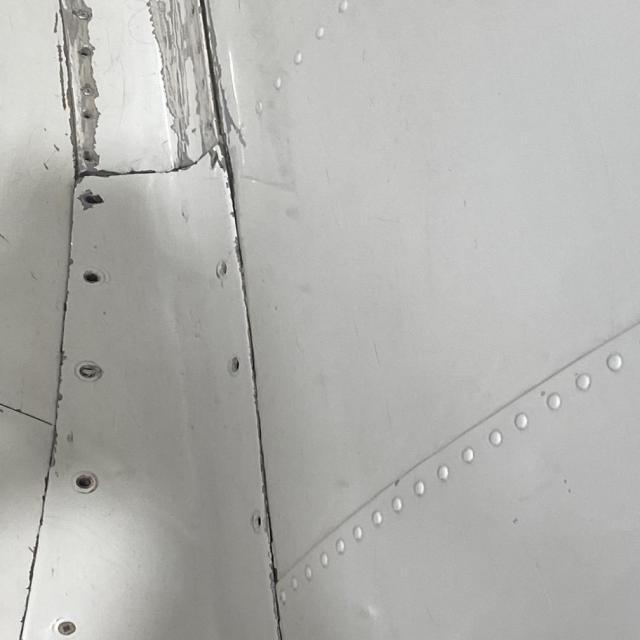Crack: (197, 26, 234, 166)
Missing-head: (73, 473, 97, 494), (77, 191, 102, 209), (250, 513, 267, 535), (228, 356, 243, 375), (80, 271, 100, 285)
Scratch: (146, 0, 217, 169), (54, 0, 103, 174)
